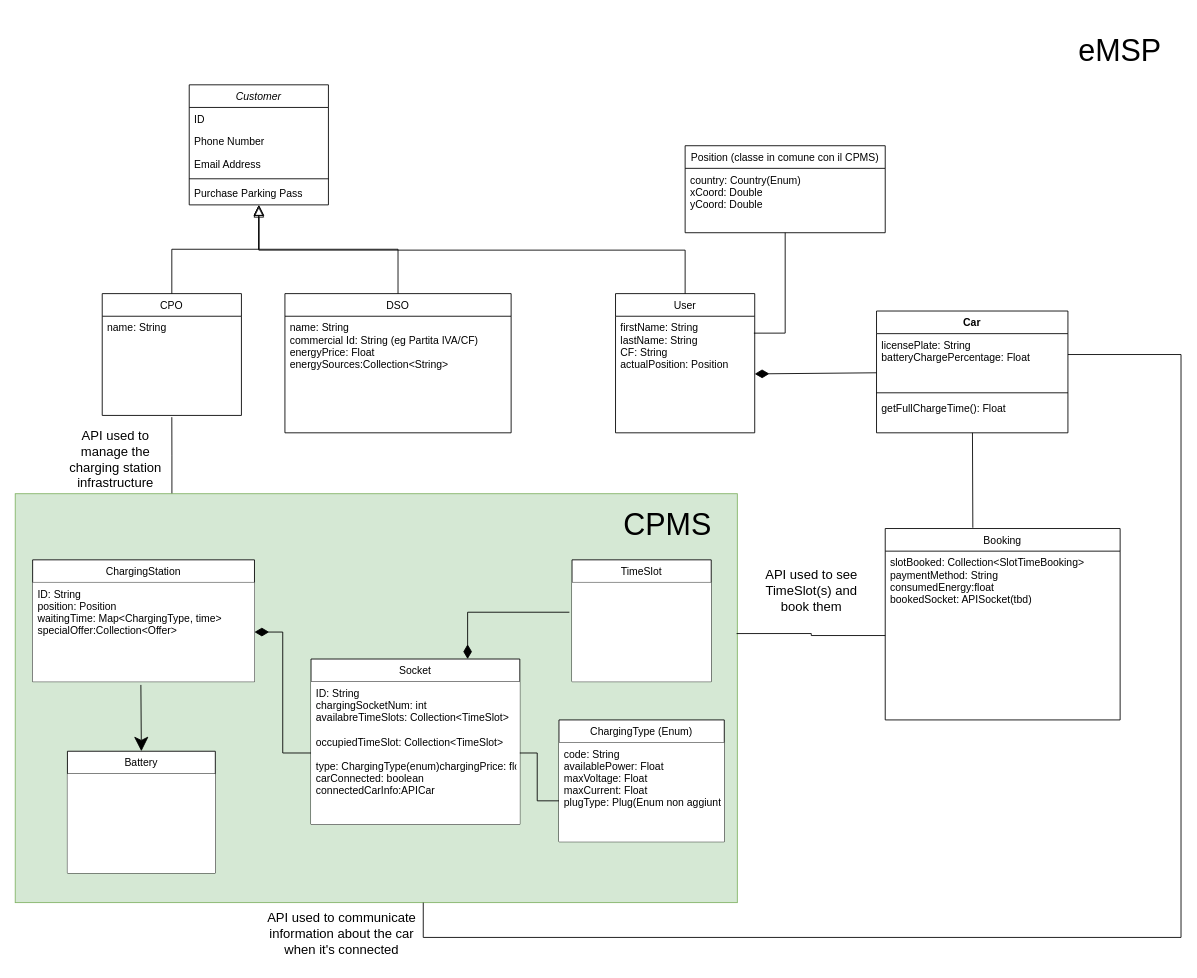
Some shapes in this 1197 by 978 pixel diagram are drawn without their labels. The shapes that lost their labels are listed below. From the top down, each one's centre as x and y in pixels, then its label:
point (641, 631): day. Int month: Int year: Int startTime: Float endTime: Float
point (141, 823): ID: String maxStorage: float actualStorage: float
